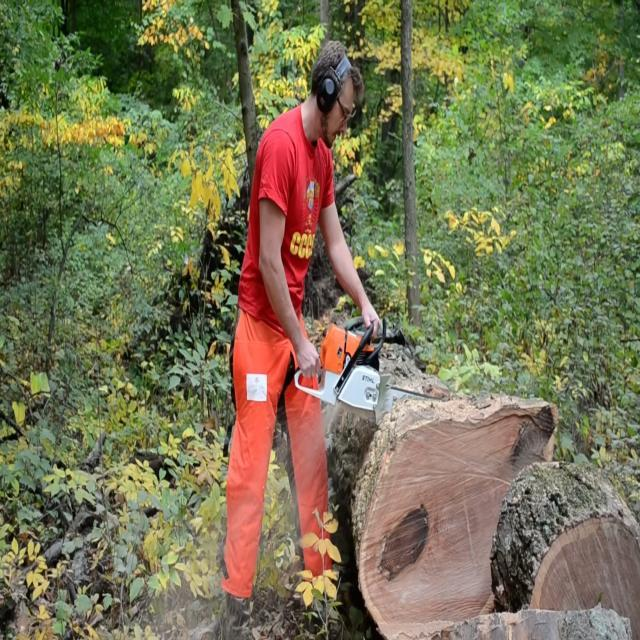Chainsaw: (280, 290, 478, 474)
